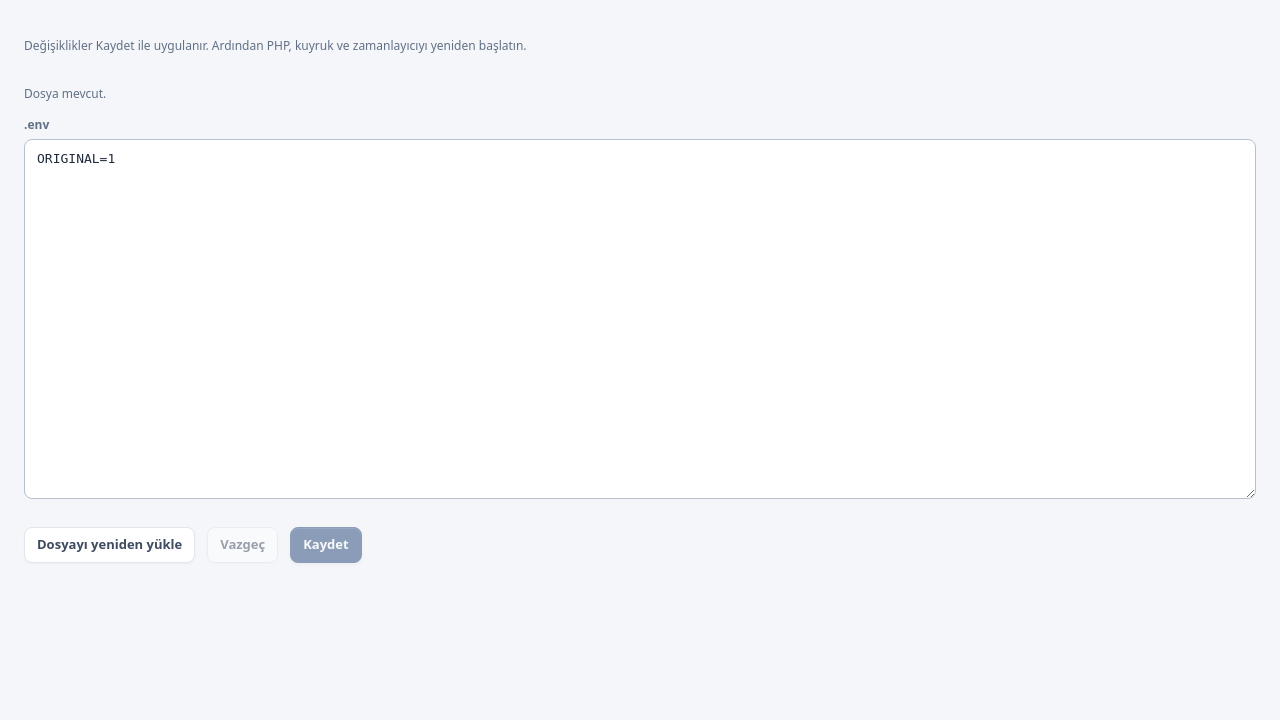
Scenario: desktop saves carry what the user originally read › does not discard an env draft while the user declines reloading
expect the text "Dosya mevcut." is shown: met, box [24, 85, 106, 102]
Step 1. Replace the text in the text box with "LOCAL=1" → coordinates (640, 319), box [24, 139, 1256, 499]
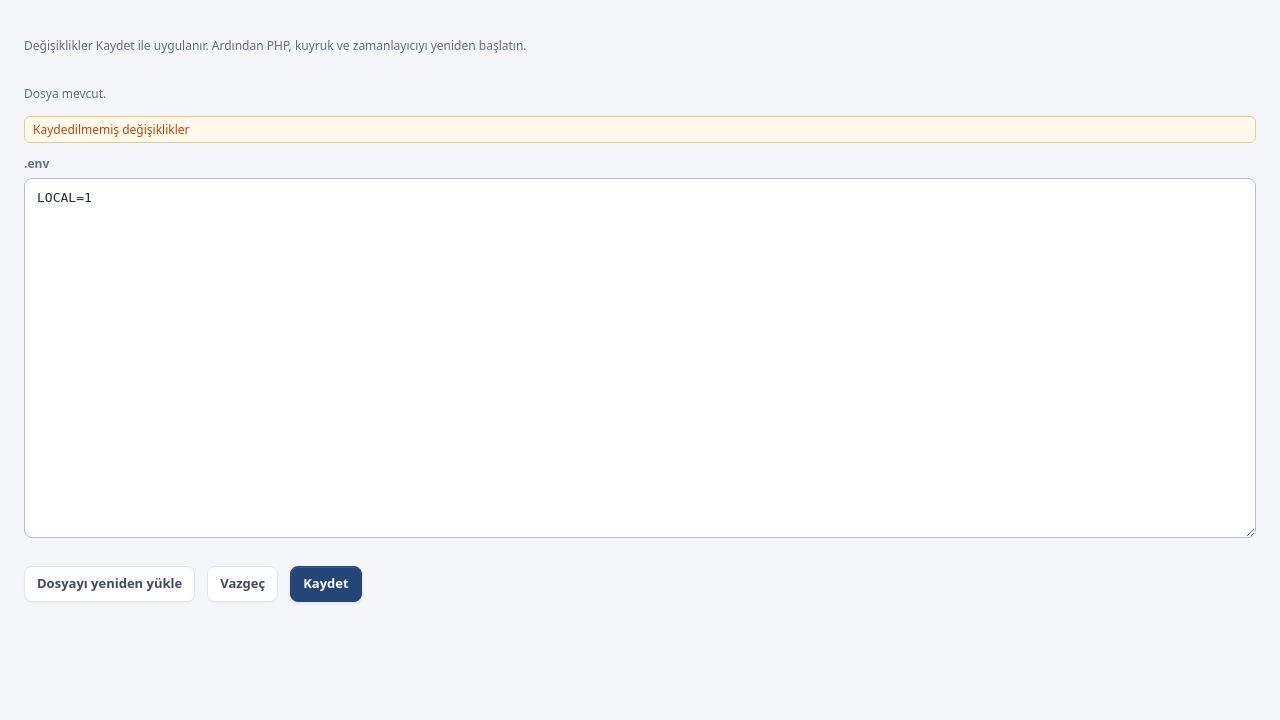
Step 2. Click the button "Dosyayı yeniden yükle" → coordinates (110, 584), box [24, 566, 195, 602]
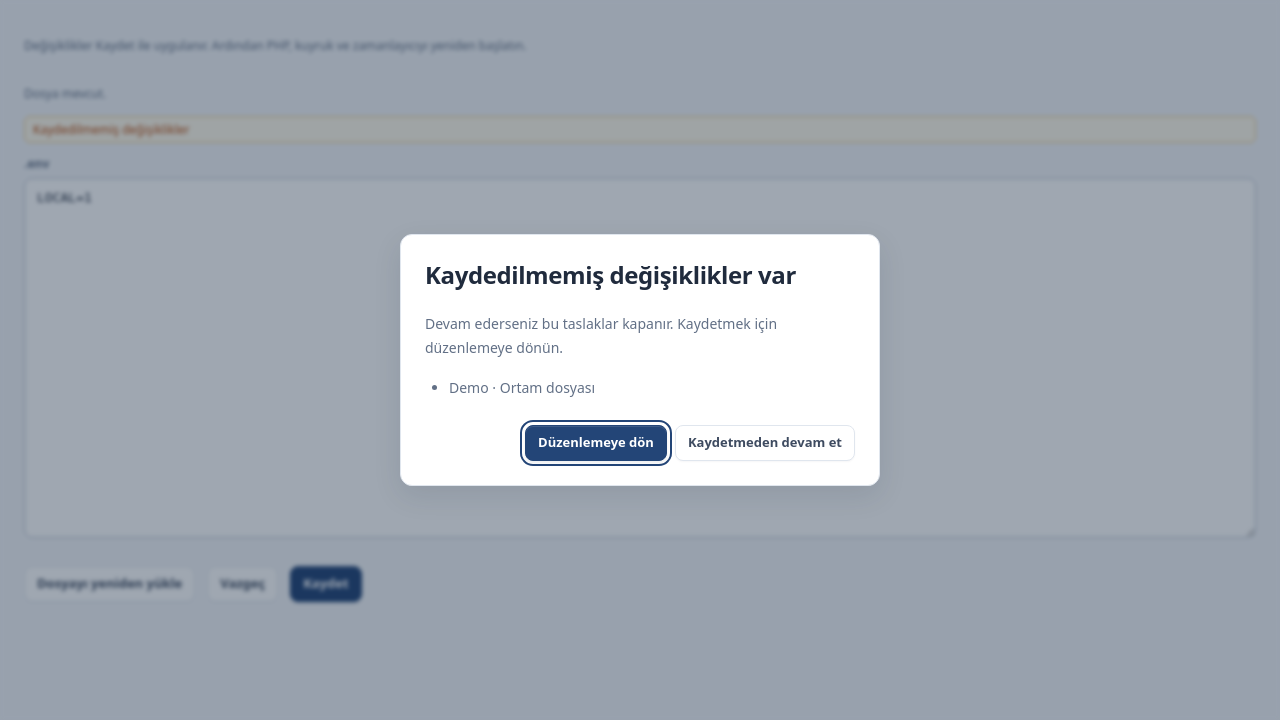
Step 3. Click the button "Düzenlemeye dön" → coordinates (596, 443), box [525, 425, 667, 461]
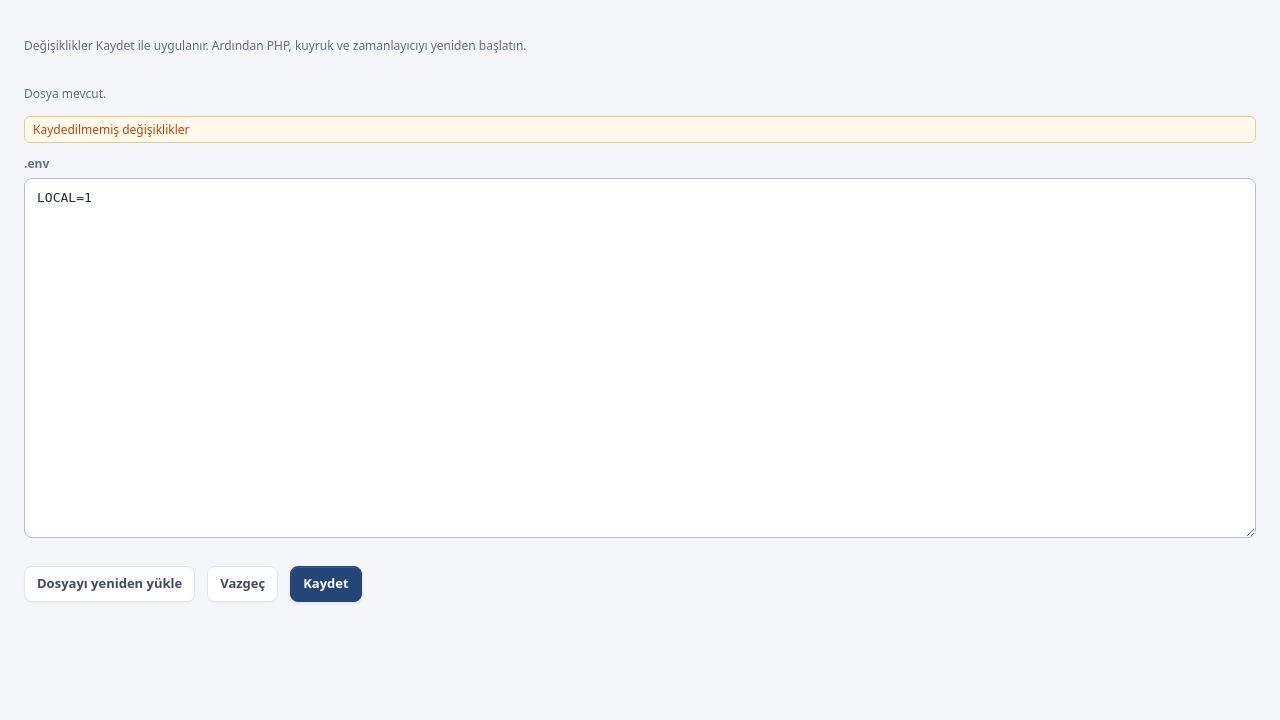
Step 4. Click the button "Dosyayı yeniden yükle" → coordinates (110, 584), box [24, 566, 195, 602]
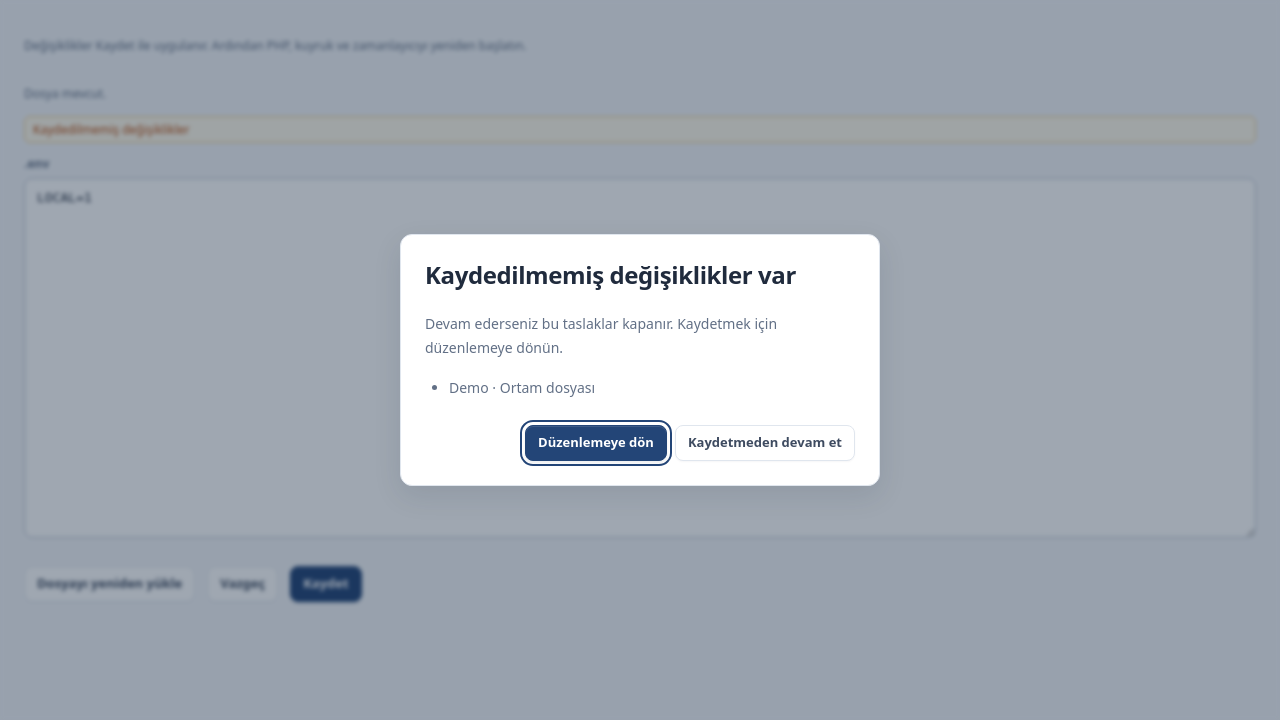
Step 5. Click the button "Kaydetmeden devam et" → coordinates (765, 443), box [675, 425, 855, 461]
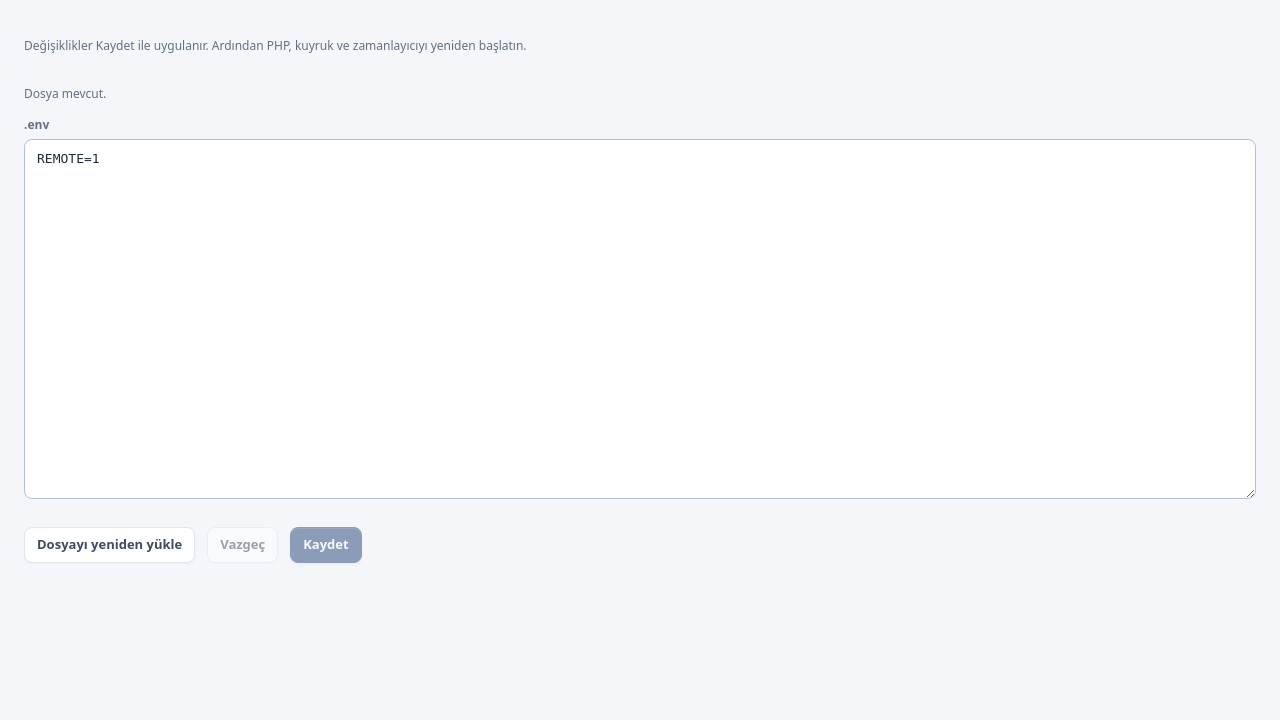
expect the text box holds "REMOTE=1": met, box [24, 139, 1256, 499]
